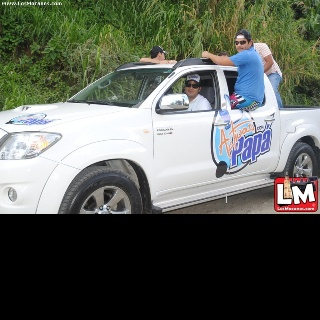without_mask: (183, 80, 200, 97), (235, 34, 250, 52), (156, 51, 168, 59)
